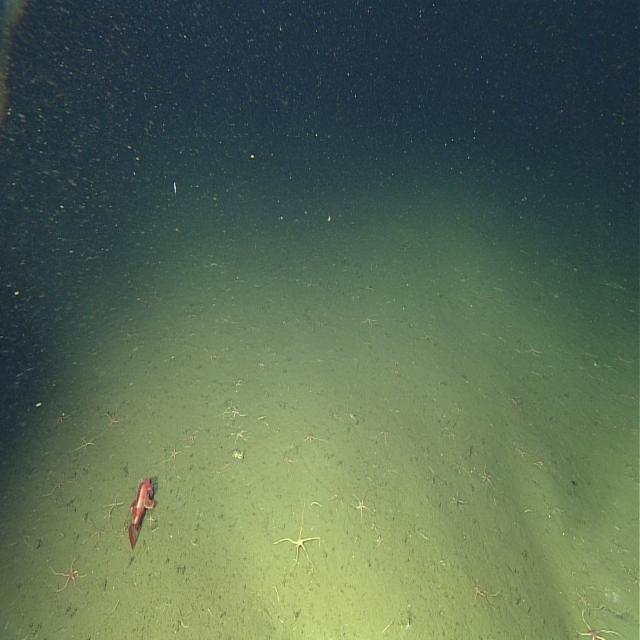Brittle Star: (264, 491, 323, 583), (460, 562, 510, 620), (569, 610, 623, 640), (94, 402, 134, 438), (56, 558, 88, 600), (68, 426, 102, 462), (348, 483, 374, 524), (299, 422, 326, 456), (520, 336, 547, 367), (508, 436, 535, 465), (162, 439, 188, 469), (377, 417, 397, 456), (444, 490, 476, 514), (356, 308, 382, 337), (476, 462, 500, 492), (224, 399, 249, 423), (505, 388, 526, 416), (369, 533, 389, 549)
Not Brittle Star: (127, 472, 157, 553)
